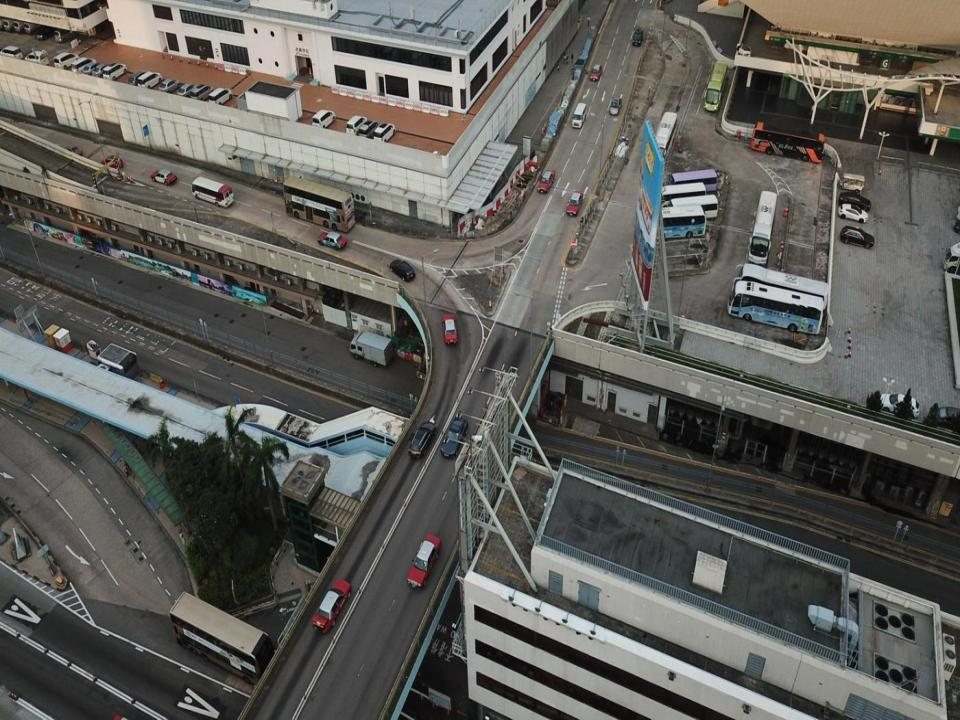bus: (169, 591, 275, 686), (732, 263, 828, 320), (727, 280, 823, 334), (283, 176, 355, 232), (751, 121, 826, 162), (748, 190, 777, 264), (644, 206, 706, 240), (648, 112, 678, 166), (666, 194, 718, 221), (191, 176, 234, 207), (704, 61, 728, 111), (660, 182, 706, 208), (669, 169, 717, 193)
car: (314, 578, 350, 632), (407, 534, 442, 588), (441, 416, 468, 456), (880, 392, 919, 418), (839, 192, 870, 213), (389, 260, 415, 282), (317, 231, 347, 250), (838, 204, 868, 222), (441, 314, 457, 346), (566, 191, 584, 216), (151, 169, 177, 186), (35, 24, 60, 41), (537, 170, 555, 193), (175, 83, 199, 100), (91, 63, 114, 79), (158, 78, 181, 93), (81, 62, 103, 77), (101, 155, 123, 170), (61, 145, 82, 157), (88, 0, 106, 13), (609, 97, 621, 115), (590, 64, 602, 80)
truck: (349, 331, 394, 366)
van: (408, 420, 435, 460), (840, 224, 874, 248), (932, 406, 960, 434), (54, 24, 80, 43), (101, 62, 127, 81), (137, 71, 163, 90), (345, 114, 367, 136), (312, 109, 336, 129), (53, 52, 79, 70), (374, 121, 396, 142), (24, 50, 48, 69), (358, 120, 380, 140), (128, 70, 152, 88), (190, 84, 214, 102), (208, 88, 232, 106), (71, 58, 97, 74), (3, 14, 25, 32), (0, 45, 23, 62), (571, 102, 586, 128), (23, 17, 47, 33), (14, 16, 36, 32), (632, 29, 643, 45)
